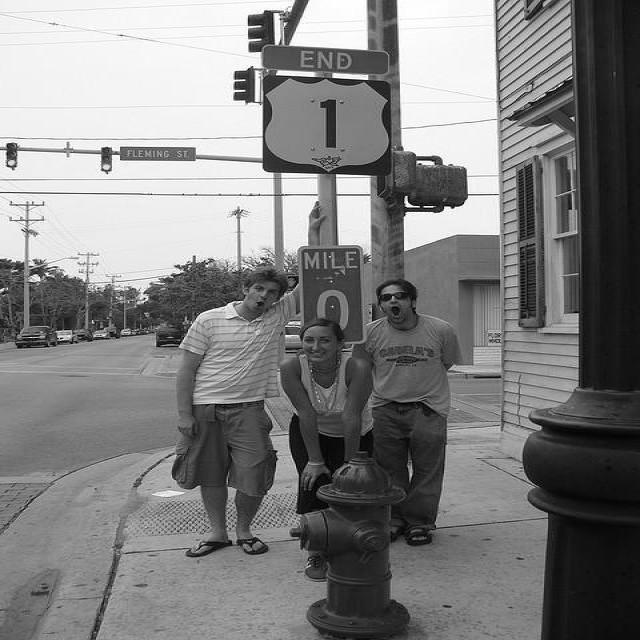vehicle: (15, 325, 59, 348), (155, 326, 185, 346), (284, 326, 302, 348), (55, 330, 79, 344), (73, 330, 93, 342), (103, 326, 121, 338), (93, 330, 111, 340), (122, 329, 132, 337), (145, 329, 155, 333), (138, 331, 146, 335)
